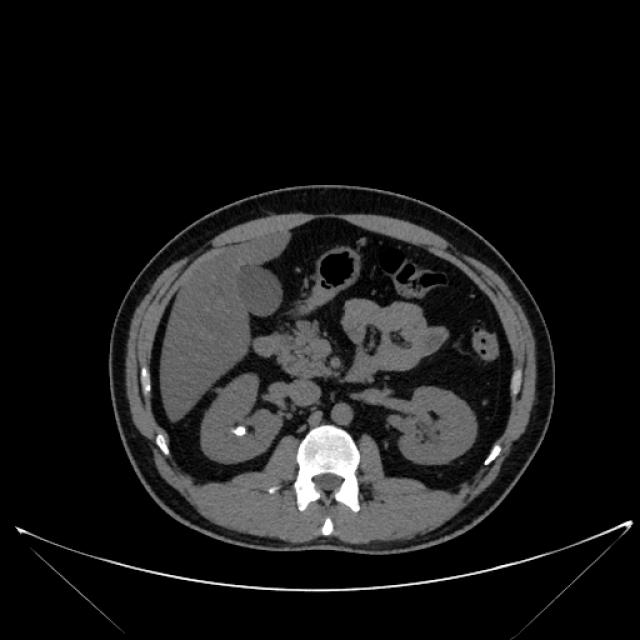kidneystone: (232, 426, 244, 436)
